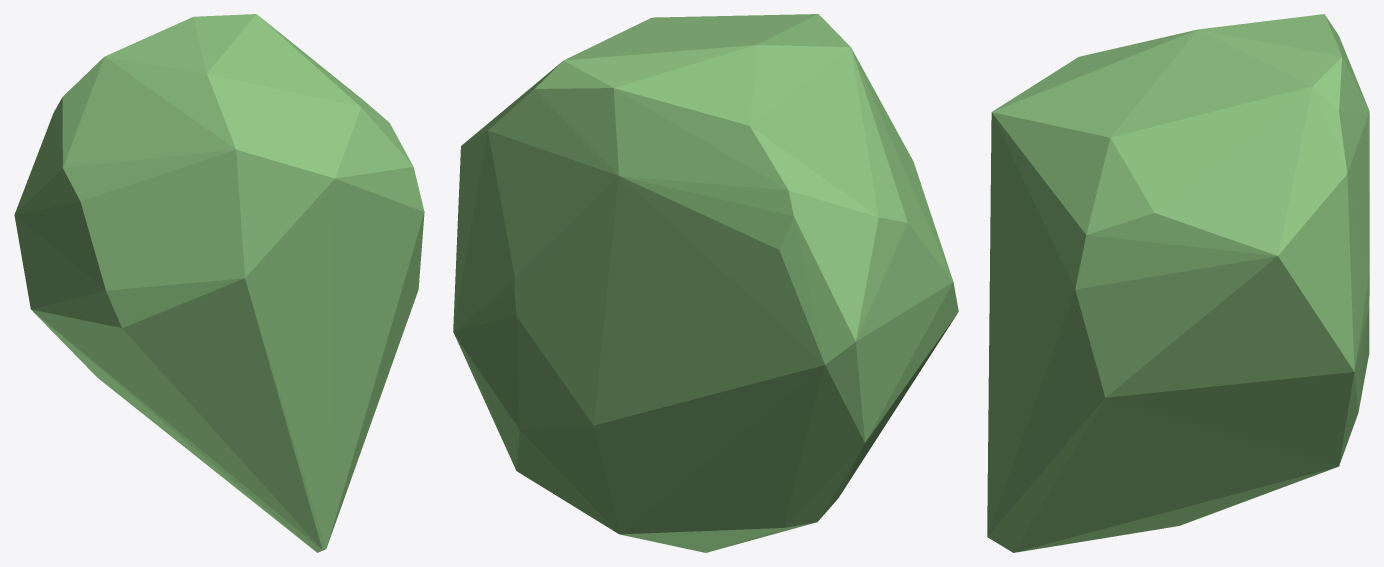
Rendered from kitchenware_kettle_u01.glb.
3 renders of one model, left to right at view 1: azimuth 30°, elevation 25°; view 2: azimuth 150°, elevation 25°; view 3: azimuth 270°, elevation 25°, orthographic. The views are drawn at different scales.
Parts seen in each view (by area): view 1: geometry_0; view 2: geometry_0; view 3: geometry_0.
Boxes of the visible parts, <box> form: geometry_0: <box>14,14,424,552</box>; geometry_0: <box>453,14,958,552</box>; geometry_0: <box>987,14,1369,552</box>.
Bounding box in the file's own units: 0.3682 × 0.4644 × 0.3186.
